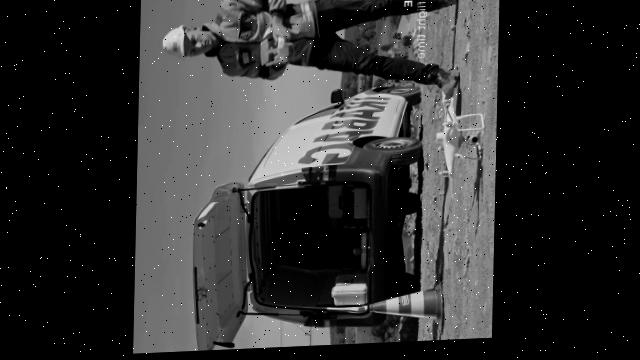drone: (434, 94, 484, 188)
